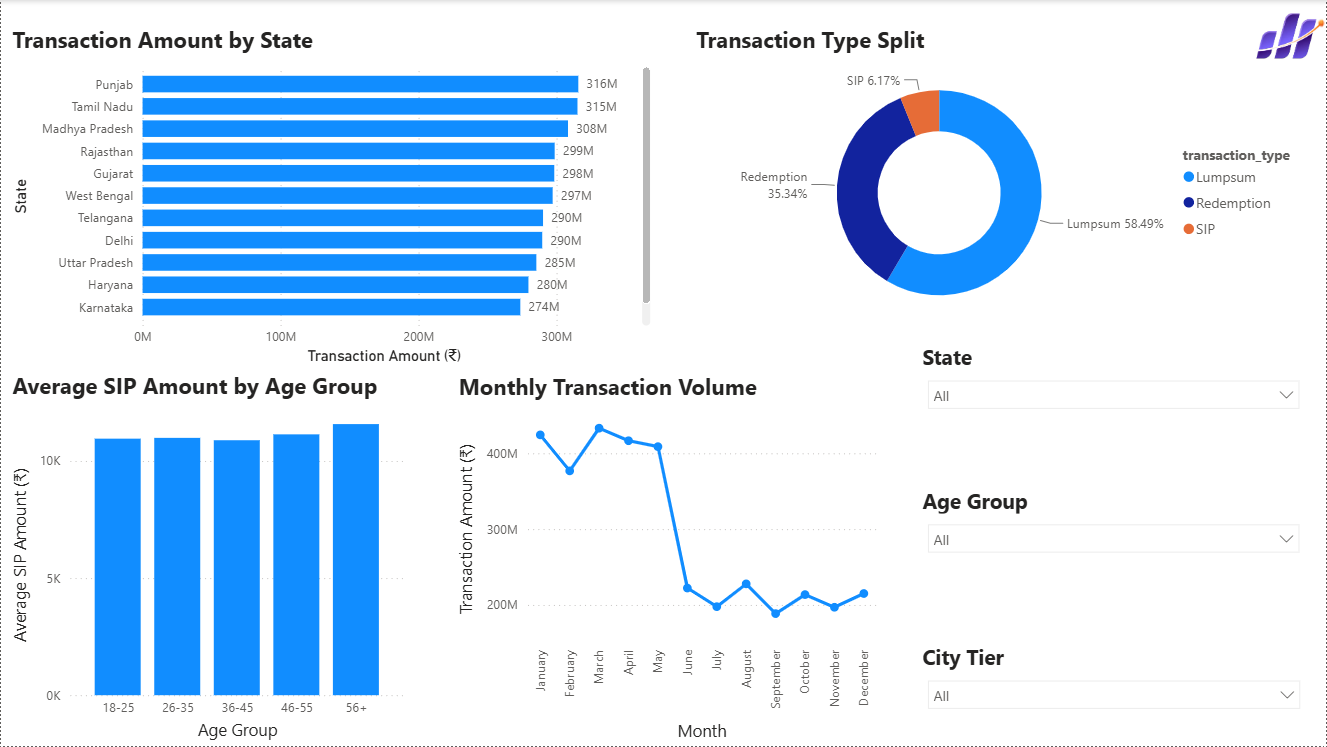

The dashboard page shown, as its layout file describes it:
{"tool":"powerbi","page":{"name":"Investor Analytics","canvas":[1280,720],"ordinal":2},"visuals":[{"type":"clusteredBarChart","title":"Transaction Amount by State","fields":{"Category":["Transactions.state"],"Y":["Sum(Transactions.amount_inr)"]},"box":[6.5,23.2,625.9,334.3],"z":0},{"type":"donutChart","title":"Transaction Type Split","fields":{"Category":["Transactions.transaction_type"],"Y":["Sum(Transactions.amount_inr)"]},"box":[666,22.9,598.4,298],"z":1000},{"type":"clusteredColumnChart","title":"Average SIP Amount by Age Group","fields":{"Category":["Transactions.age_group"],"Y":["Avg(Transactions.amount_inr)"]},"box":[6.5,357.5,388.5,362.7],"z":2000},{"type":"lineChart","title":"Monthly Transaction Volume","fields":{"Category":["Transactions.transaction_date.Variation.Date Hierarchy.Month"],"Y":["Sum(Transactions.amount_inr)"]},"box":[436.7,358.3,412.6,361.9],"z":3000},{"type":"slicer","title":"State","fields":{"Values":["Transactions.state"]},"box":[884.3,330.6,378.8,100.1],"z":4000},{"type":"slicer","title":"Age Group","fields":{"Values":["Transactions.age_group"]},"box":[884.3,469.3,378.8,100.1],"z":5000},{"type":"slicer","title":"City Tier","fields":{"Values":["Transactions.city_tier"]},"box":[884.1,620.6,379.4,99.4],"z":6000},{"type":"image","box":[1210.1,0,70,65.1],"z":7000}]}

Visuals, with their boxes in screenshot pixels (x1, y1, x2, y2), scaled from the page's 1280x720 canvas onto the 1327x747 screenshot:
"Transaction Amount by State" clusteredBarChart: bbox=[7, 24, 656, 371]
"Transaction Type Split" donutChart: bbox=[690, 24, 1311, 333]
"Average SIP Amount by Age Group" clusteredColumnChart: bbox=[7, 371, 410, 746]
"Monthly Transaction Volume" lineChart: bbox=[453, 372, 880, 746]
"State" slicer: bbox=[917, 343, 1309, 447]
"Age Group" slicer: bbox=[917, 487, 1309, 591]
"City Tier" slicer: bbox=[917, 644, 1310, 746]
image: bbox=[1255, 0, 1326, 68]
